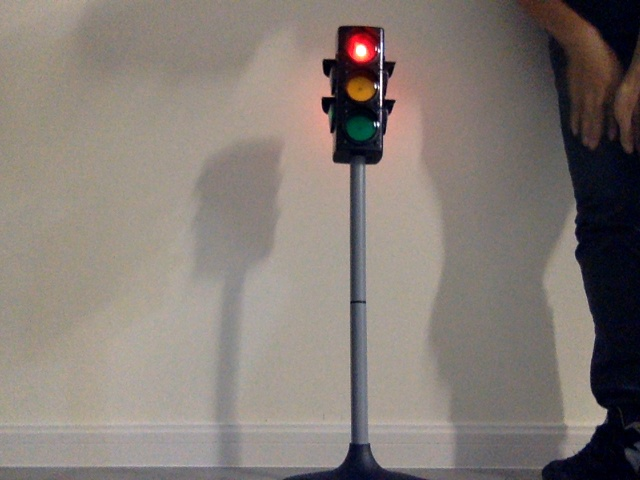red: (341, 29, 377, 147)
